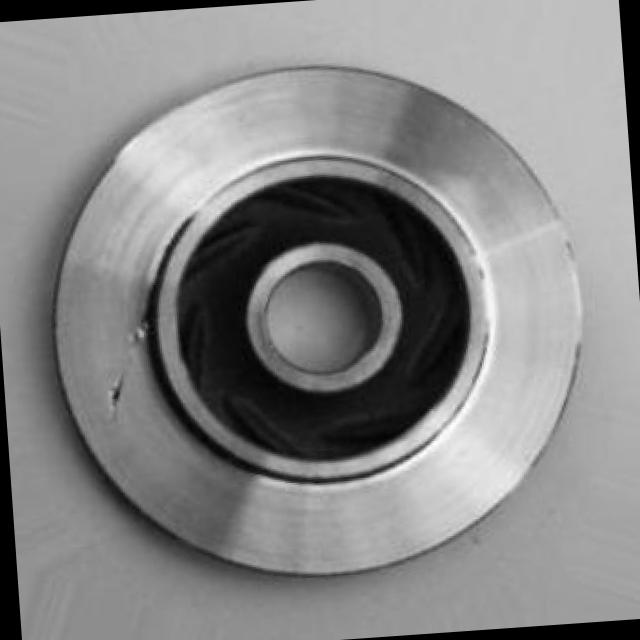Defect: (103, 371, 130, 418)
